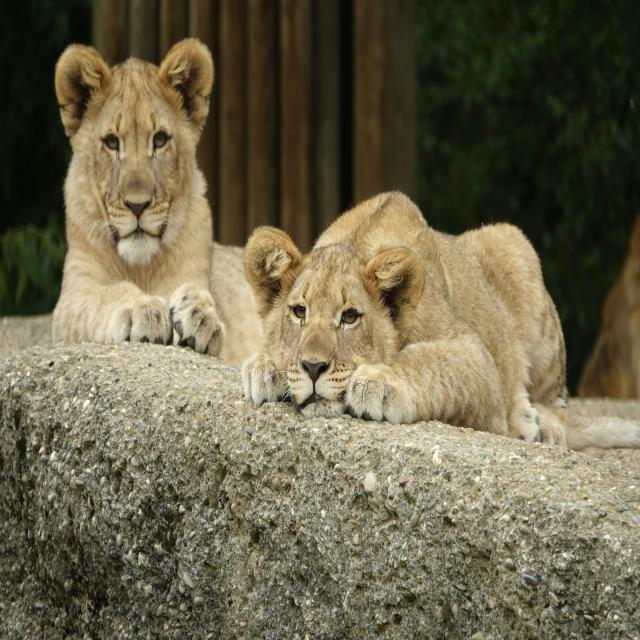Lion: (246, 192, 568, 446), (52, 34, 303, 357)
